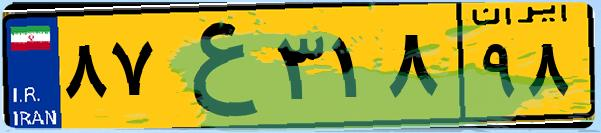1: (330, 28, 385, 110)
3: (270, 28, 330, 110)
7: (110, 28, 158, 98)
8: (385, 28, 445, 110), (57, 26, 110, 100), (525, 38, 570, 115)
9: (475, 38, 525, 113)
ع: (158, 12, 270, 120)
